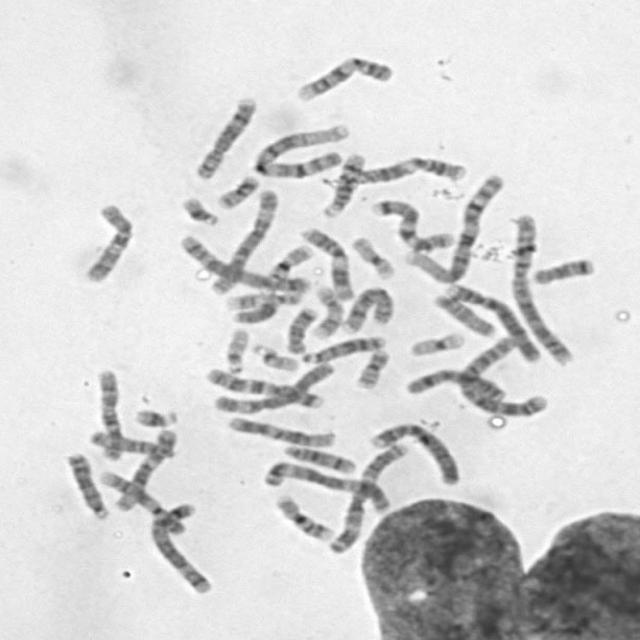A1: (400, 169, 507, 285), (248, 119, 353, 179)
A2: (504, 209, 578, 366), (454, 329, 554, 418)
A3: (323, 438, 411, 556), (260, 458, 395, 514)
B4: (440, 278, 546, 364), (364, 416, 462, 486)
B5: (174, 230, 314, 294), (146, 499, 215, 595)
C10: (77, 198, 137, 284), (92, 364, 126, 462)
C11: (296, 223, 355, 301), (344, 151, 468, 186)
C12: (110, 424, 180, 513), (222, 412, 336, 448)
C6: (207, 184, 280, 296), (207, 359, 333, 413)
C7: (202, 362, 326, 410), (368, 194, 458, 252)
C8: (188, 92, 259, 181), (338, 282, 397, 335)
C9: (92, 465, 189, 535), (290, 50, 398, 104)
D13: (61, 448, 112, 521), (296, 331, 388, 365)
D14: (318, 148, 368, 219), (279, 440, 360, 475)
D15: (428, 290, 498, 338), (84, 425, 178, 460)
E16: (270, 490, 336, 542), (263, 241, 315, 279)
E17: (308, 281, 347, 339), (220, 288, 307, 312)
E18: (528, 252, 597, 286), (282, 302, 320, 355)
F19: (347, 233, 398, 281), (404, 328, 468, 357)
F20: (350, 344, 392, 390), (213, 171, 261, 211)
G21: (176, 192, 222, 227), (130, 403, 180, 429)
G22: (248, 339, 302, 373), (220, 323, 252, 376)
X: (400, 364, 508, 403)
